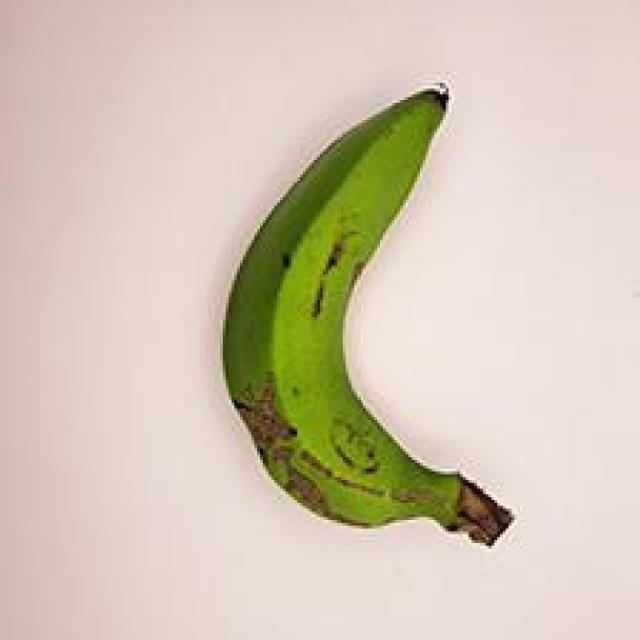Raw: (205, 68, 525, 560)
